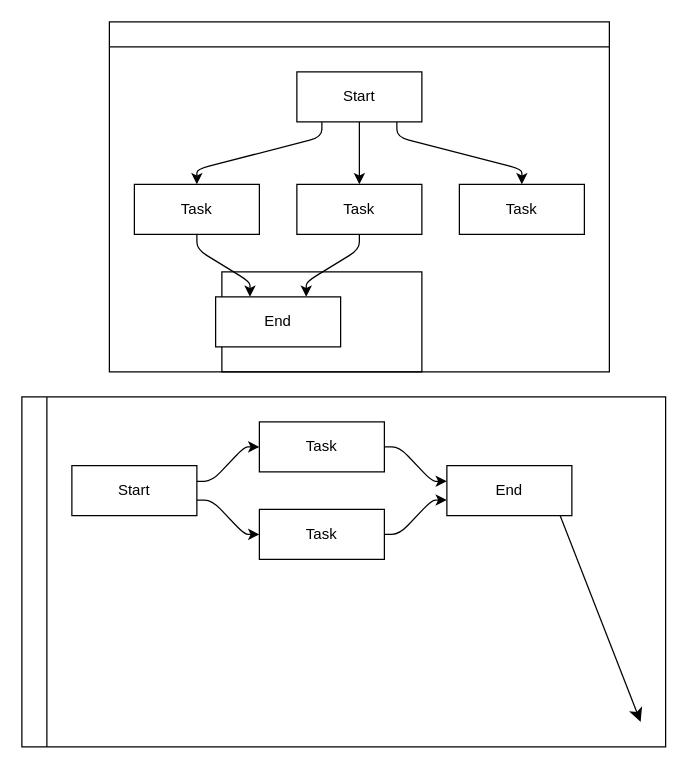
This 688x769 diagram has some shape labels left out. The shapes that lost their labels are listed below. From the top down, each one's box as (x1, y1, x2, y2) in pixels, then its label:
(108, 21, 609, 372): Vertical Flow Layout
(21, 396, 666, 747): Horizontal Flow Layout
